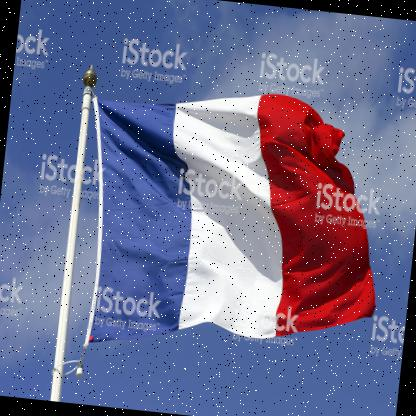fr: (69, 75, 396, 372)
